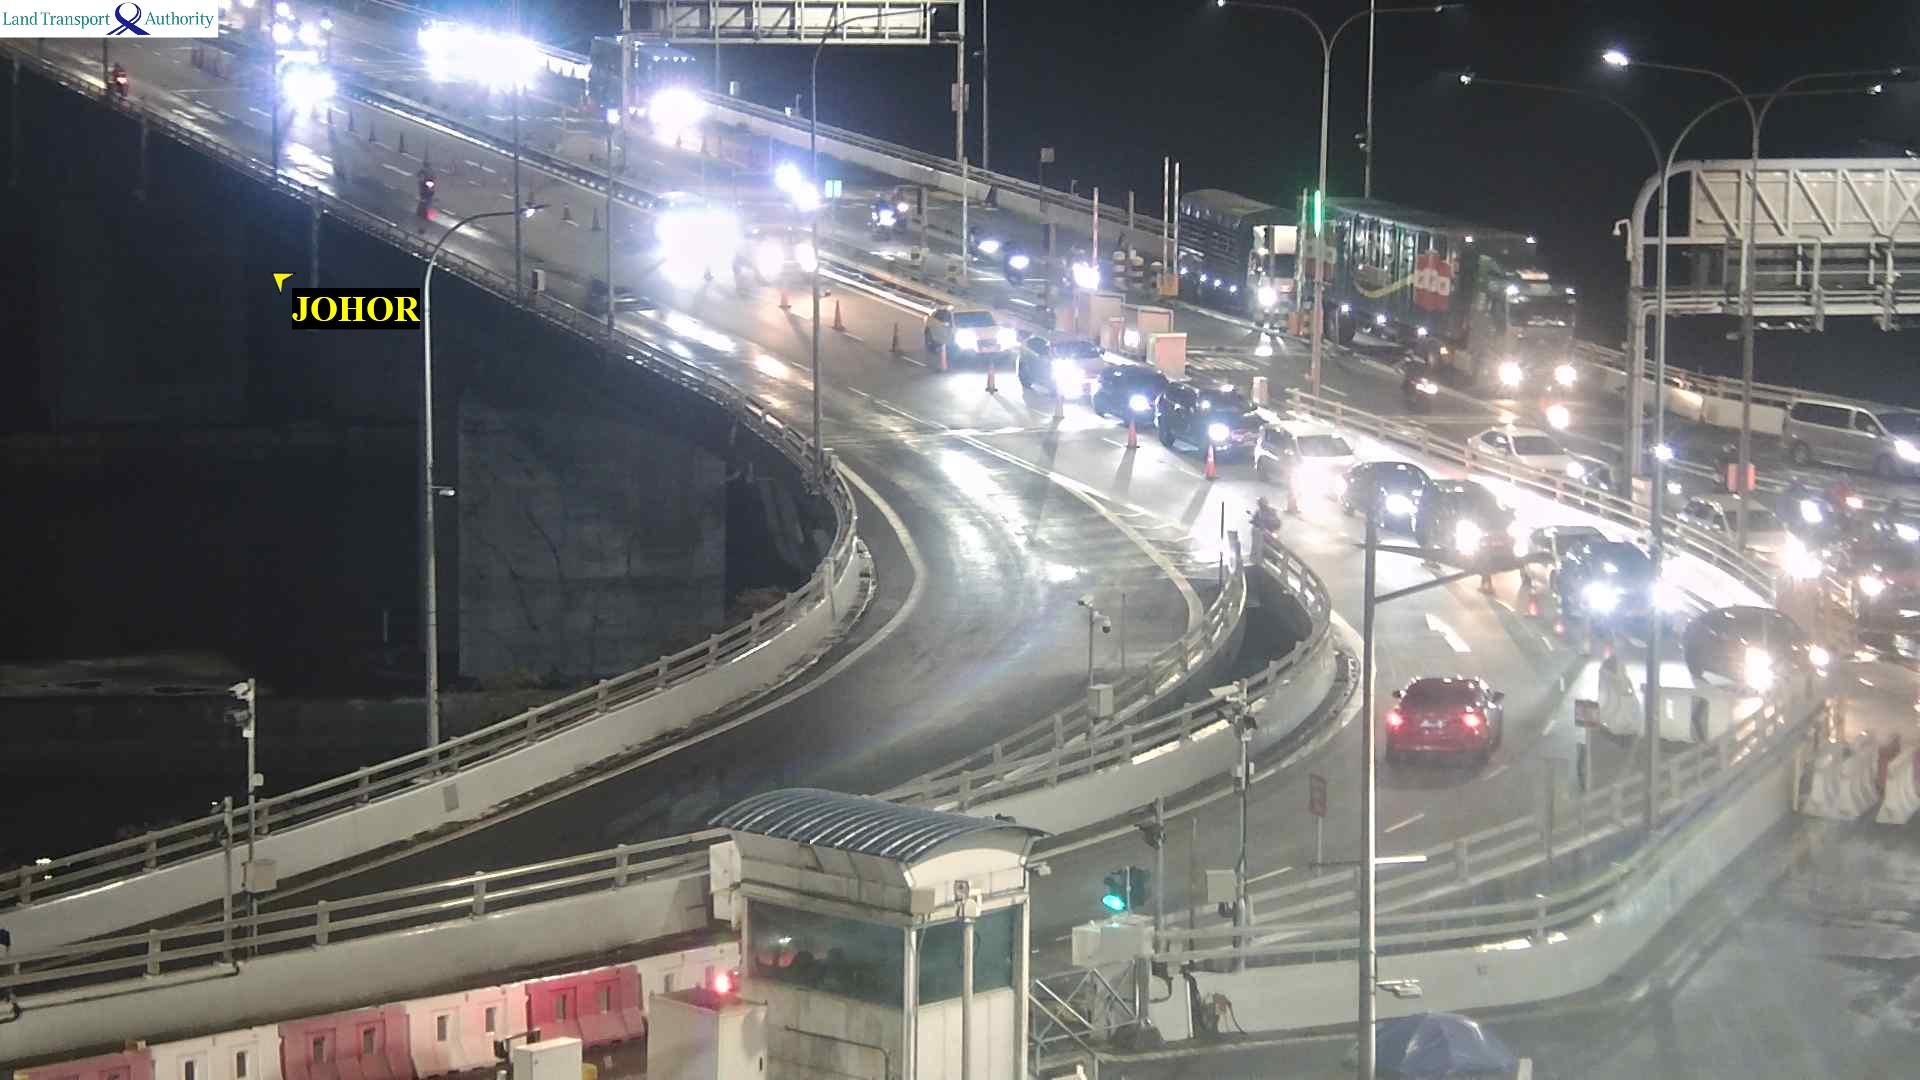vehicle-secondlink-johor: (1386, 680, 1502, 765), (1089, 364, 1166, 421), (1254, 502, 1274, 541), (417, 157, 435, 193)
vehicle-secondlink-singapore: (1321, 199, 1575, 393), (1180, 189, 1296, 320), (550, 33, 705, 115), (1691, 601, 1826, 694), (1785, 397, 1920, 479), (1565, 543, 1676, 632), (1820, 538, 1920, 629), (1006, 332, 1131, 401), (1684, 493, 1788, 570), (1418, 477, 1515, 558), (1164, 373, 1261, 454), (1336, 464, 1448, 530), (1237, 429, 1377, 480), (1469, 426, 1573, 492), (736, 193, 816, 273), (927, 307, 1021, 371), (1771, 467, 1858, 531), (1520, 525, 1602, 588), (1869, 495, 1919, 564), (976, 235, 1038, 287), (654, 191, 709, 245), (276, 57, 334, 100), (873, 186, 910, 241), (1404, 360, 1440, 414), (1064, 253, 1097, 290), (1412, 361, 1444, 398)
